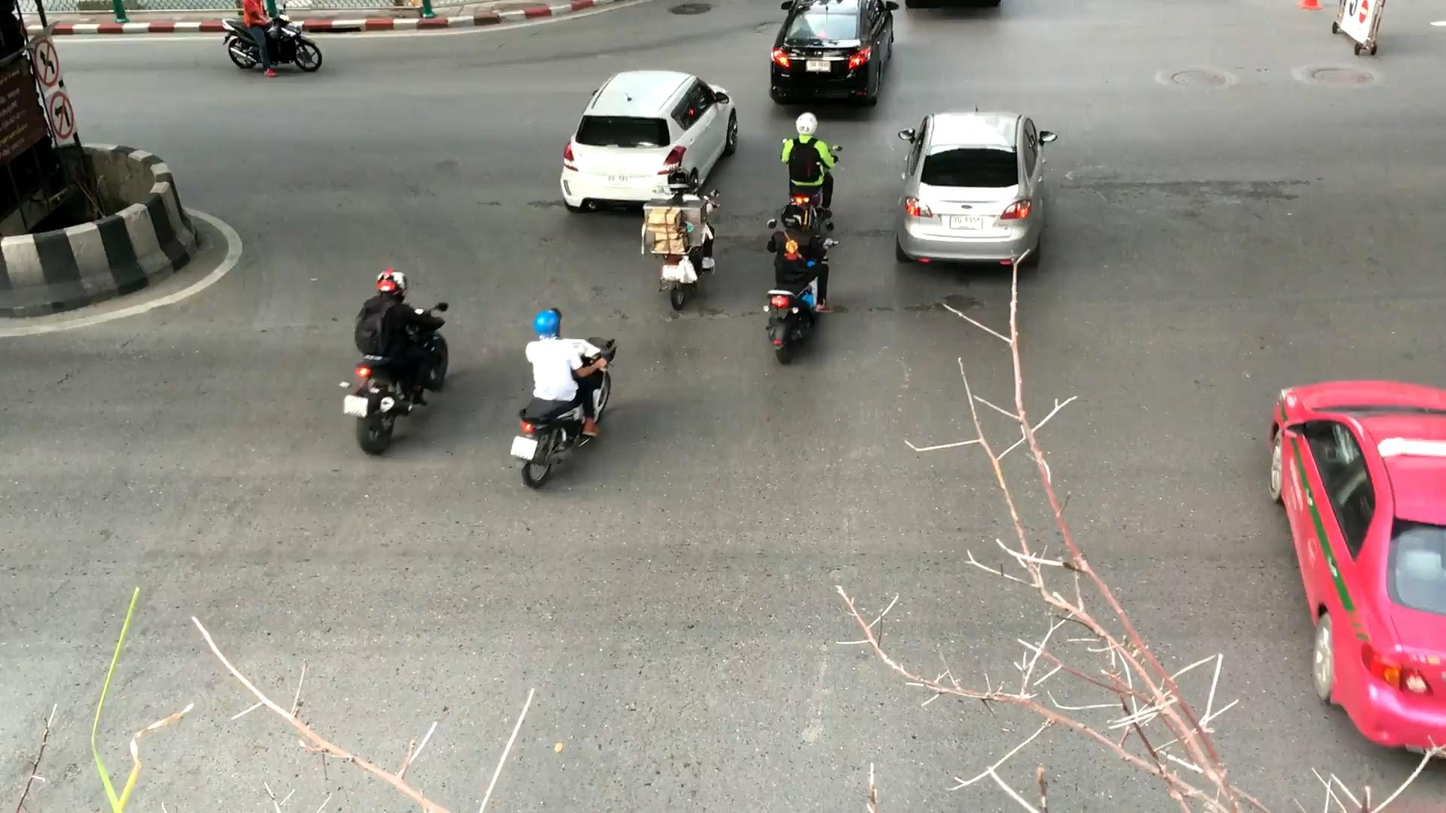driver: (344, 268, 449, 456), (510, 307, 616, 490), (766, 204, 839, 365), (644, 168, 720, 311), (222, 0, 322, 77), (781, 112, 842, 231)
helmet: (376, 269, 409, 304), (533, 307, 563, 339), (667, 167, 693, 194), (781, 205, 806, 230), (796, 113, 818, 136)
